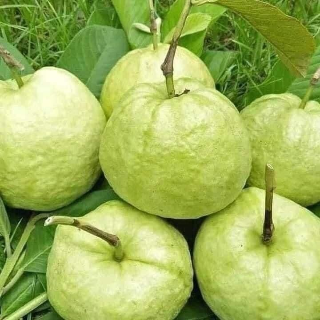oi: (101, 80, 251, 216), (50, 202, 192, 320), (197, 189, 319, 320)
